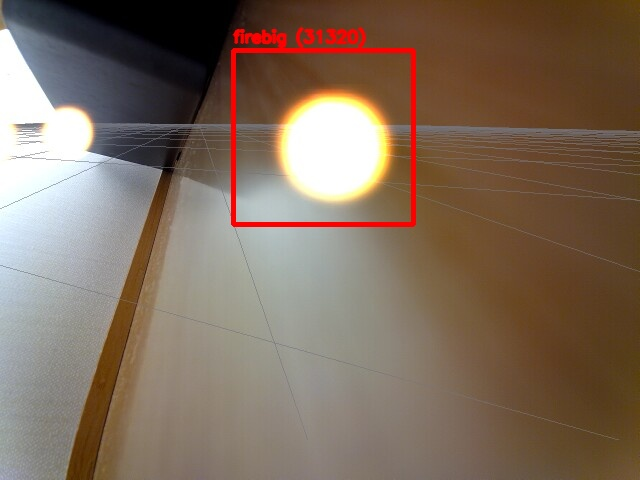firebig: (233, 50, 413, 224)
